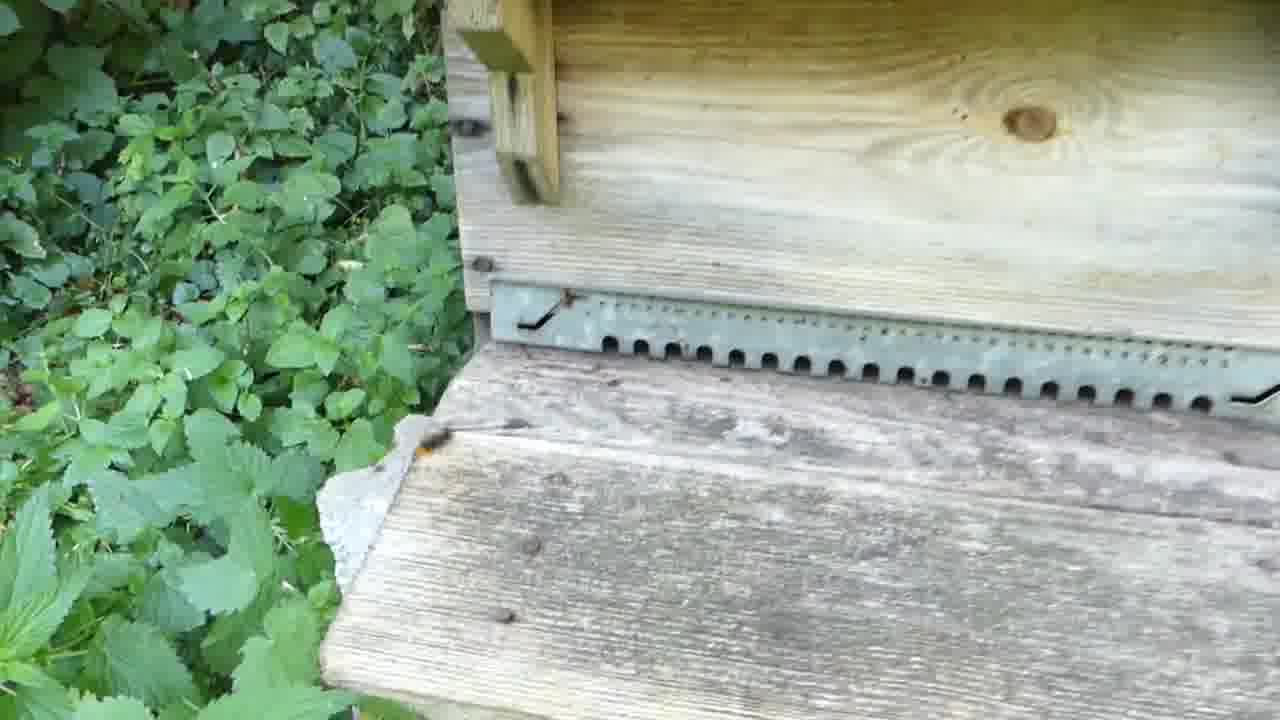hornet: (425, 430, 461, 458)
